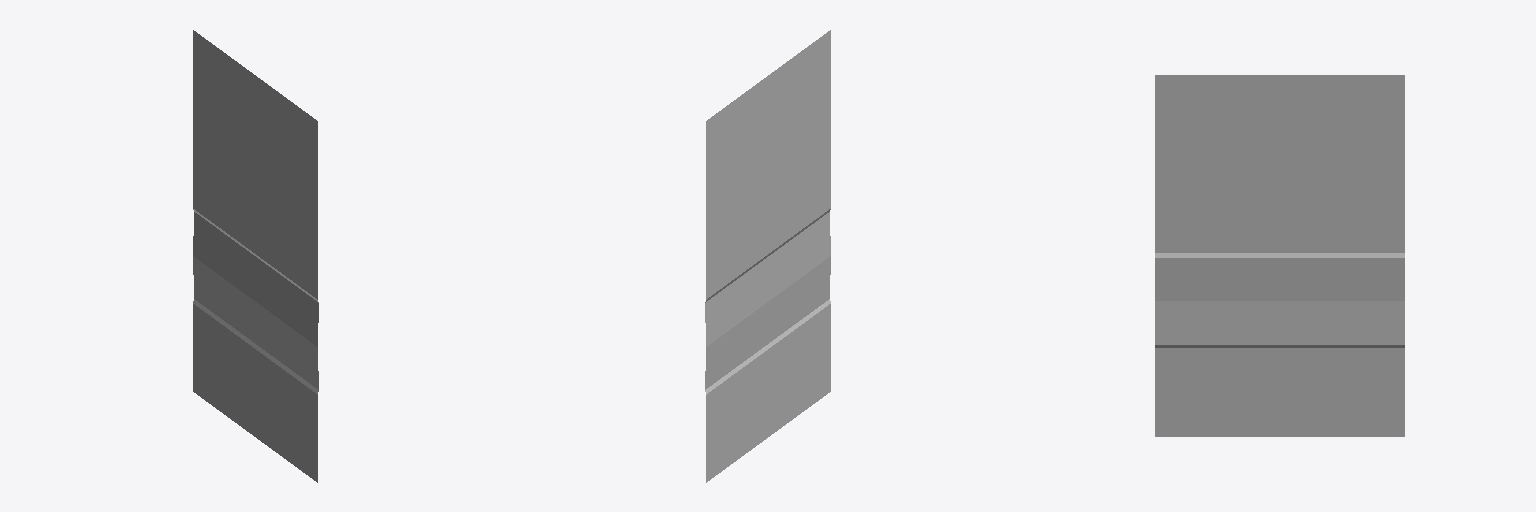
File: wall_part_4.obj
3 renders of one model, left to right at view 1: azimuth 30°, elevation 25°; view 2: azimuth 150°, elevation 25°; view 3: azimuth 270°, elevation 25°, orthographic.
Parts seen in each view (by area): view 1: Cube.007_Cube.011; view 2: Cube.007_Cube.011; view 3: Cube.007_Cube.011.
Part boxes in pixels (left/top/right/bottom): Cube.007_Cube.011: left=193, top=30, right=318, bottom=482; Cube.007_Cube.011: left=705, top=30, right=830, bottom=482; Cube.007_Cube.011: left=1155, top=75, right=1404, bottom=436.
Bounding box in the file's own units: 0.0354 × 8 × 5.